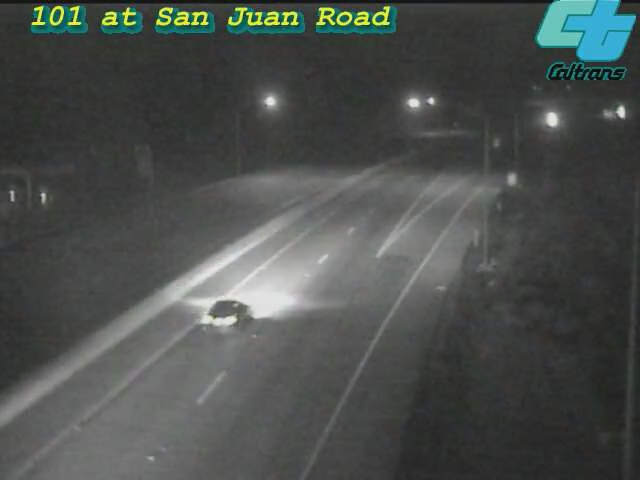vehicle: (184, 270, 264, 350), (585, 90, 635, 140), (529, 94, 579, 144), (595, 87, 640, 137)
